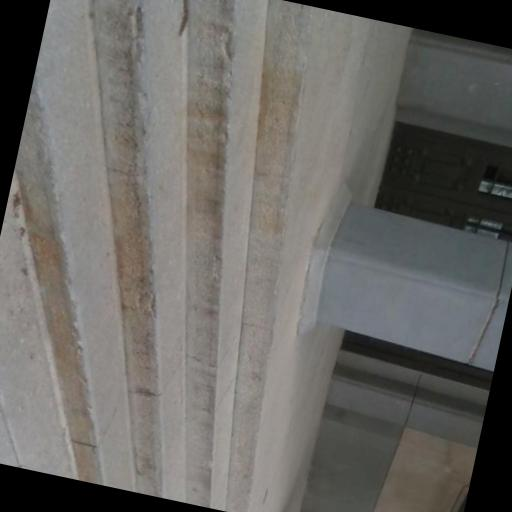stairs: (15, 0, 267, 510)
